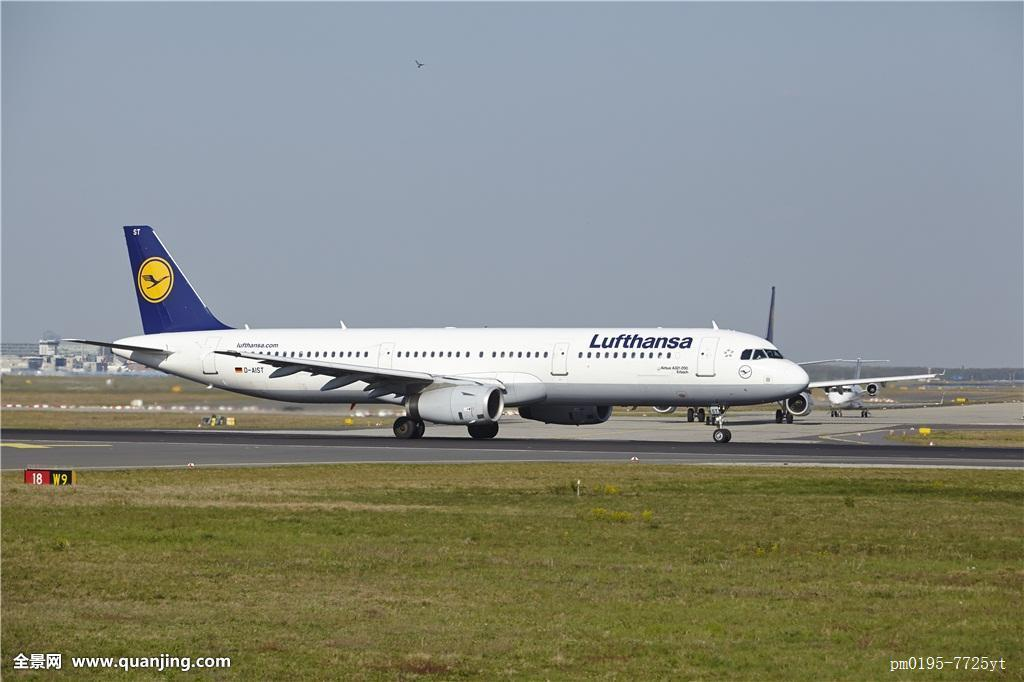airplane: (59, 219, 943, 438)
